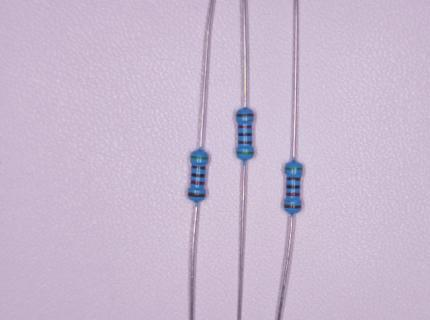Black band: (191, 173, 205, 178), (286, 184, 300, 189), (238, 133, 252, 136)
Brown band: (187, 192, 206, 198), (284, 204, 302, 209), (191, 165, 206, 170), (236, 113, 254, 117), (286, 177, 301, 181), (238, 141, 252, 144)
Green band: (190, 155, 209, 160), (284, 167, 303, 171), (236, 151, 254, 155)
Red band: (190, 180, 205, 185), (238, 125, 252, 129), (286, 192, 300, 196)
